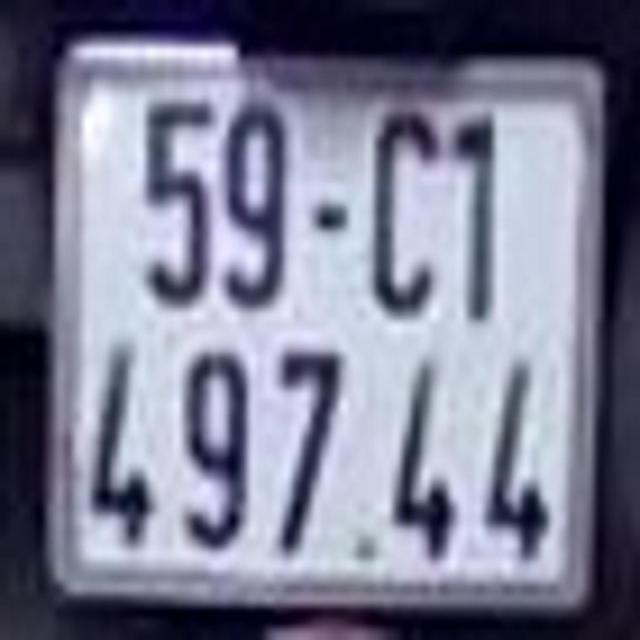1: (454, 112, 501, 319)
4: (88, 339, 156, 544), (387, 358, 452, 564), (490, 366, 546, 558)
5: (145, 98, 210, 304)
7: (272, 345, 350, 553)
9: (180, 351, 253, 548), (226, 102, 282, 304)
C: (376, 112, 444, 310)
